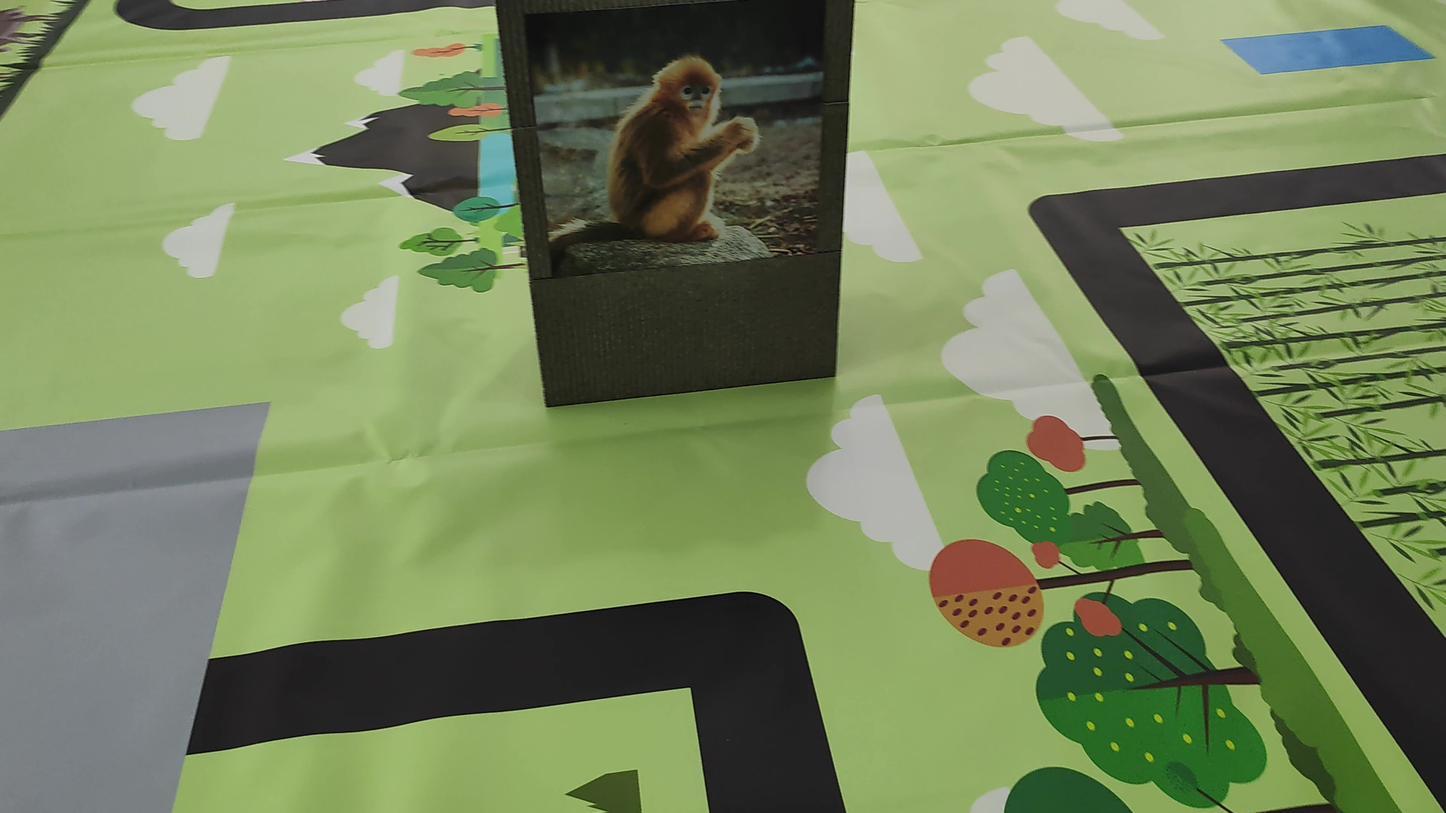monkey: (574, 39, 816, 272)
